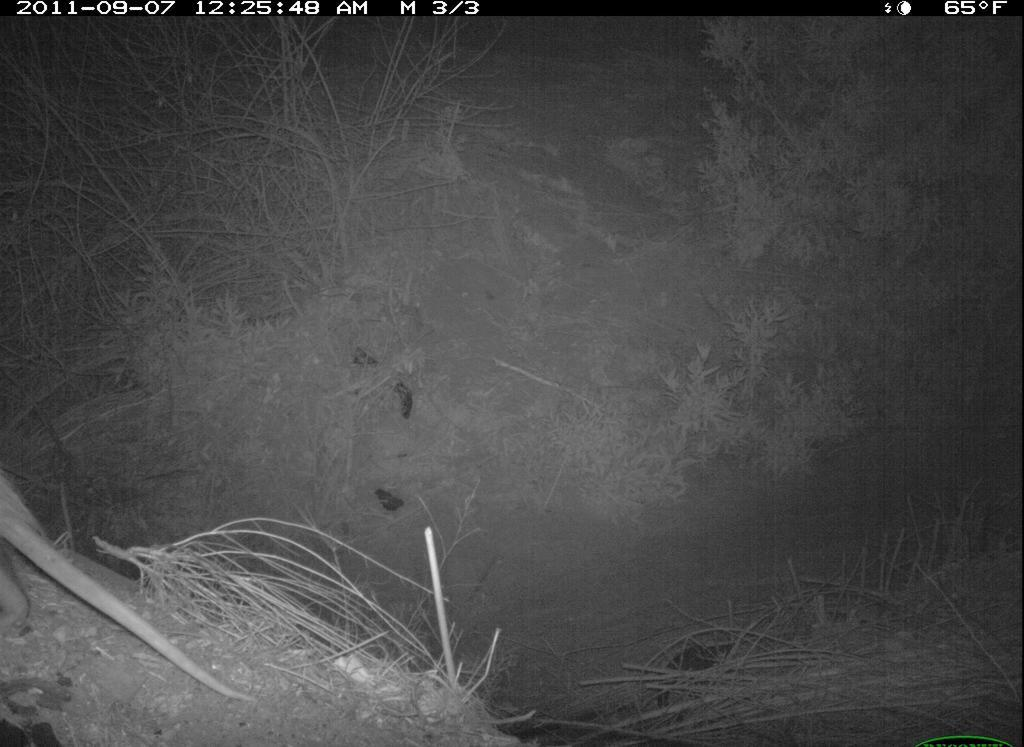opossum: (4, 449, 263, 717)
